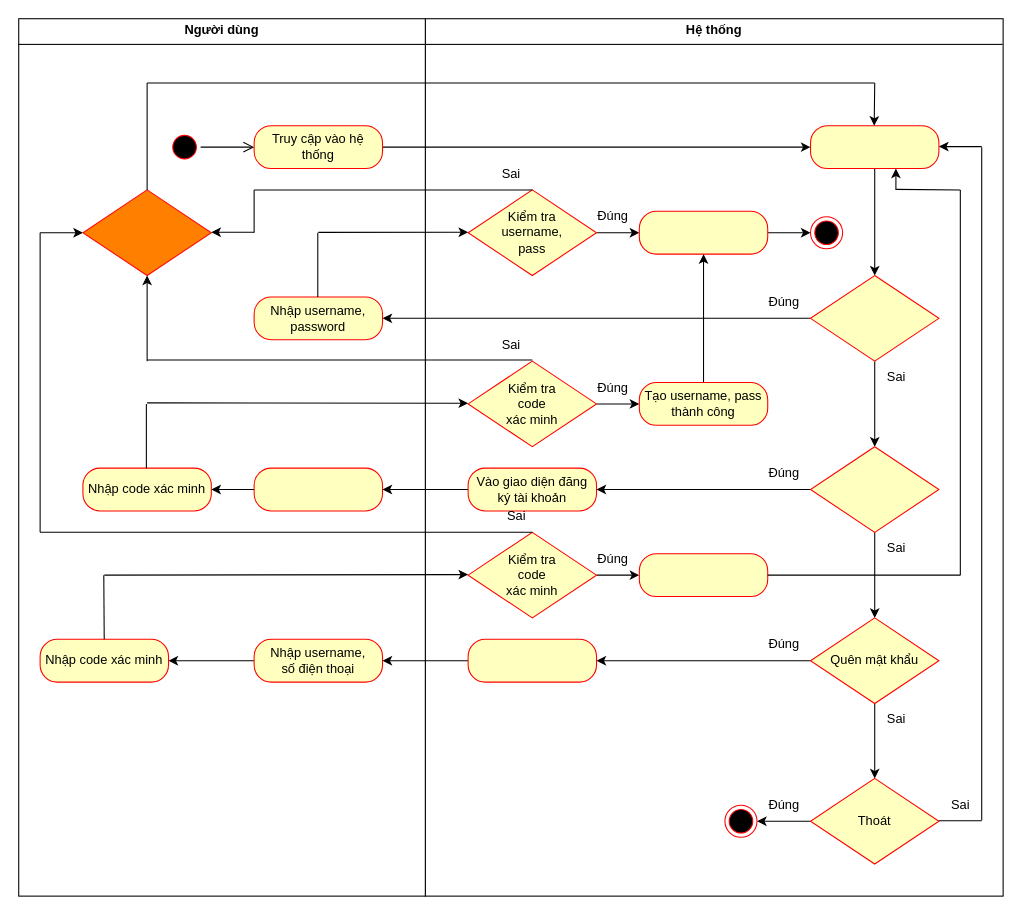
Some shapes in this 1022 by 915 pixel diagram are drawn without their labels. Each missing label, with the centre of its shape:
"Hệ thống hiển thị trang đăng nhập" goes at point (874, 147).
"Nhập password mới" goes at point (703, 575).
"Nhập thông tin" goes at point (318, 489).
"Vào giao diện hệ thống" goes at point (703, 232).
"Vào giao diện quên mật khẩu" goes at point (532, 660).
"Đăng ký" goes at point (874, 489).
"Đăng nhập" goes at point (874, 317).
